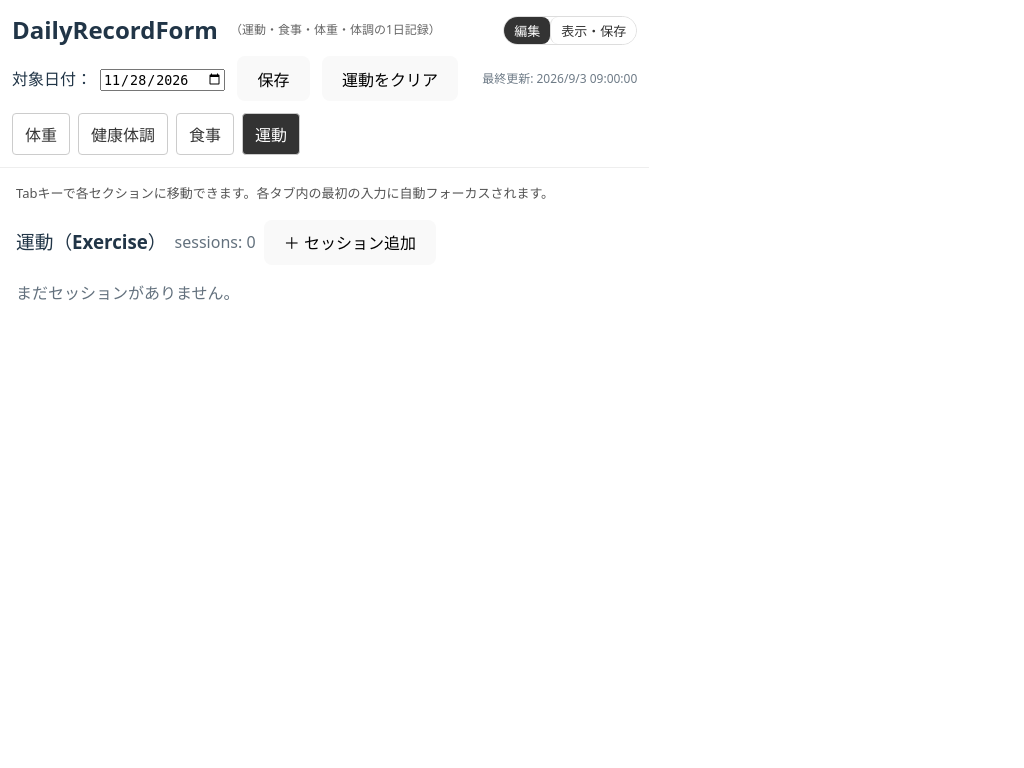
Test: DailyRecordForm cloud persistence routing › treats delete not_found as an idempotent success
Step 1. Click the button "表示・保存" → (593, 30), box [550, 16, 636, 44]
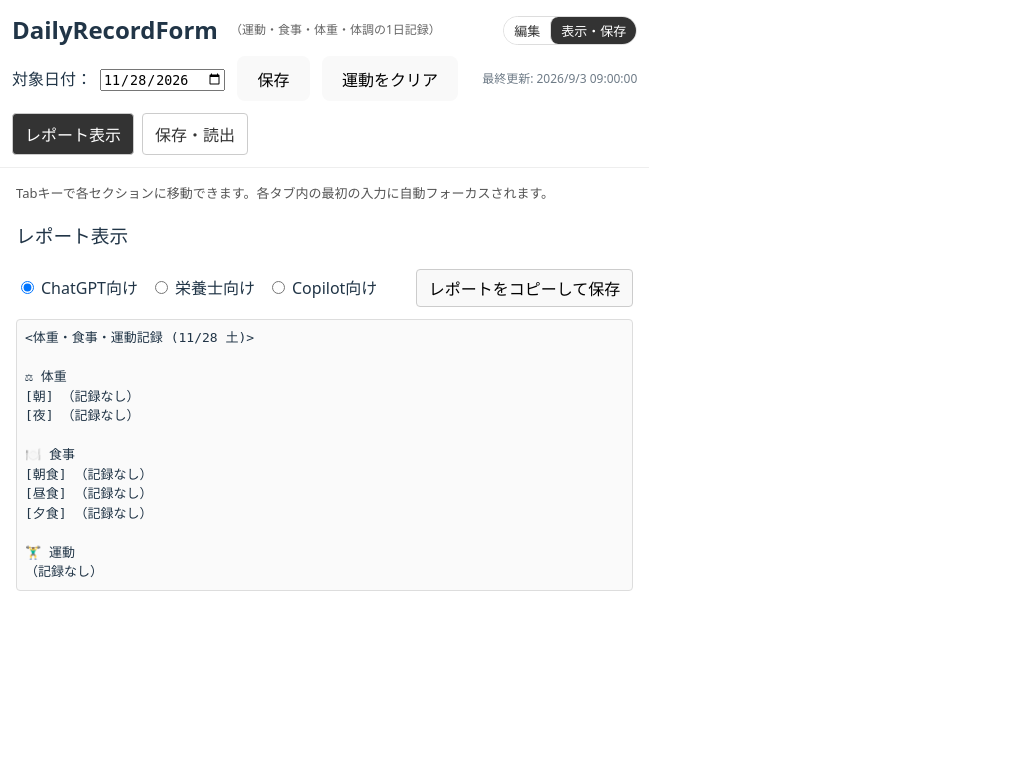
Step 2. Click the tab "保存・読出" → (195, 134), box [142, 113, 248, 155]
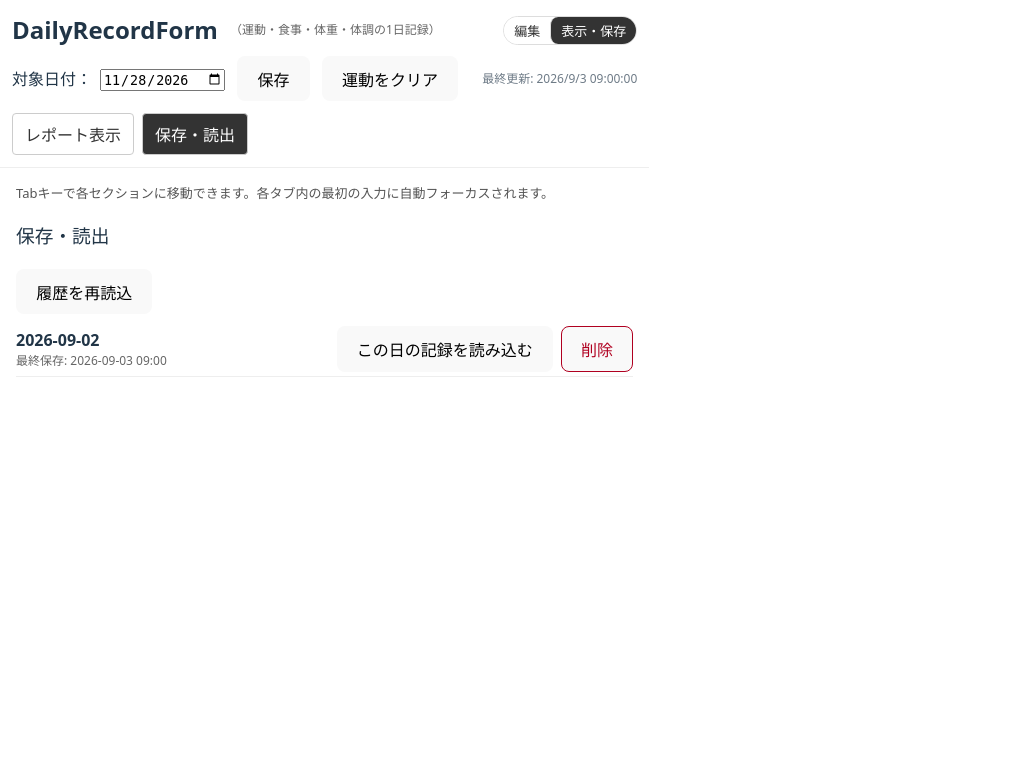
Check: the text "2026-09-02" is shown, box [16, 329, 100, 351]
Step 3. Click the button "削除" → (597, 349), box [561, 326, 633, 372]
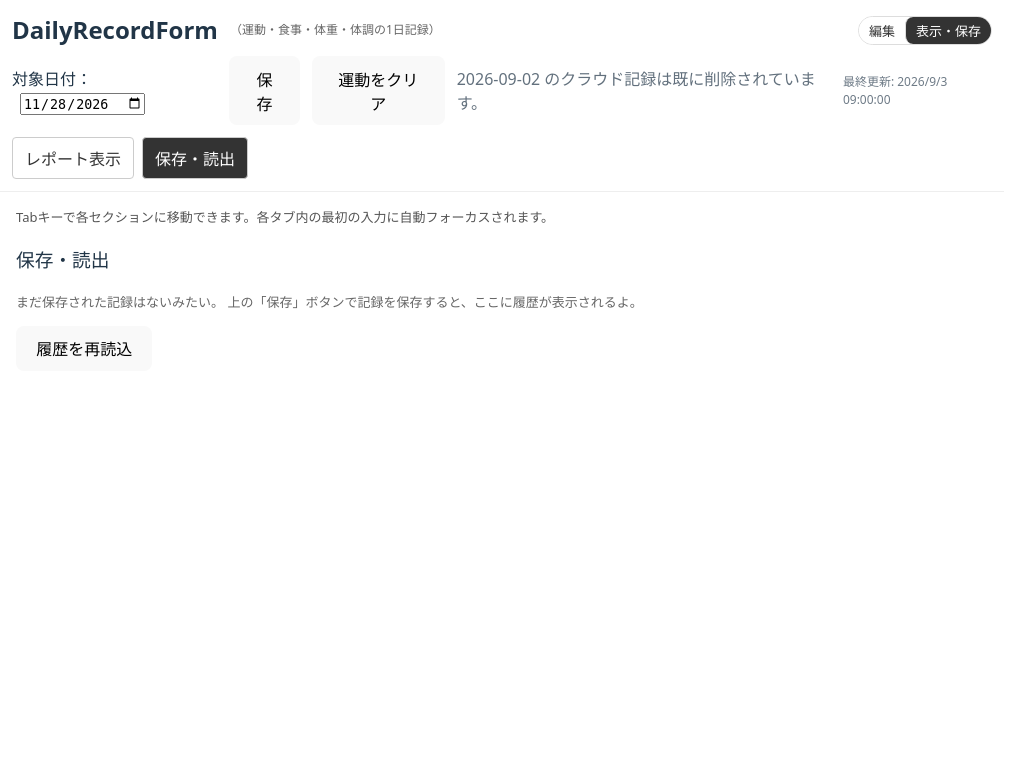
Check: the text "まだ保存された記録はないみたい。 上の「保存」ボタンで記録を保存すると、ここに履歴が表示されるよ。" is shown, box [16, 293, 643, 311]
